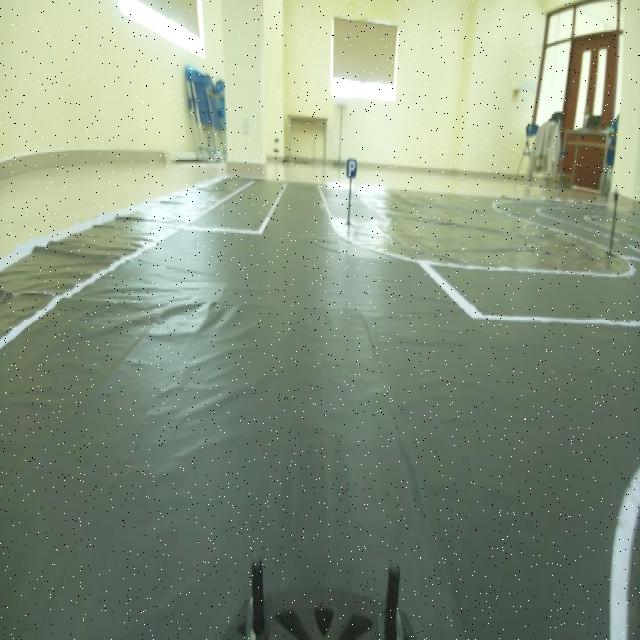parking: (340, 148, 361, 182)
